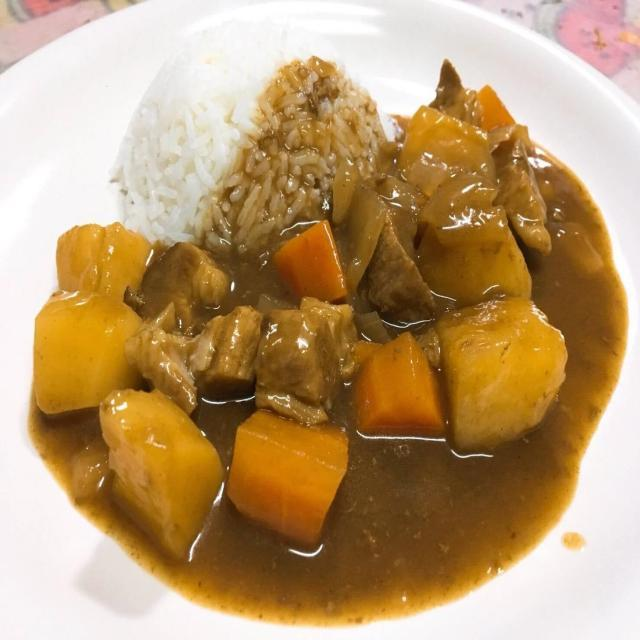cac loai rau cu: (106, 387, 222, 562), (225, 403, 350, 555), (446, 305, 571, 450), (421, 195, 528, 300), (35, 295, 139, 403), (395, 96, 495, 200), (360, 341, 444, 441), (57, 224, 155, 309), (270, 227, 350, 303)
com: (108, 21, 400, 253)
com ca ri: (32, 18, 624, 625)
thit bo: (270, 305, 361, 401), (184, 309, 273, 390), (500, 142, 555, 255), (156, 241, 239, 315)
